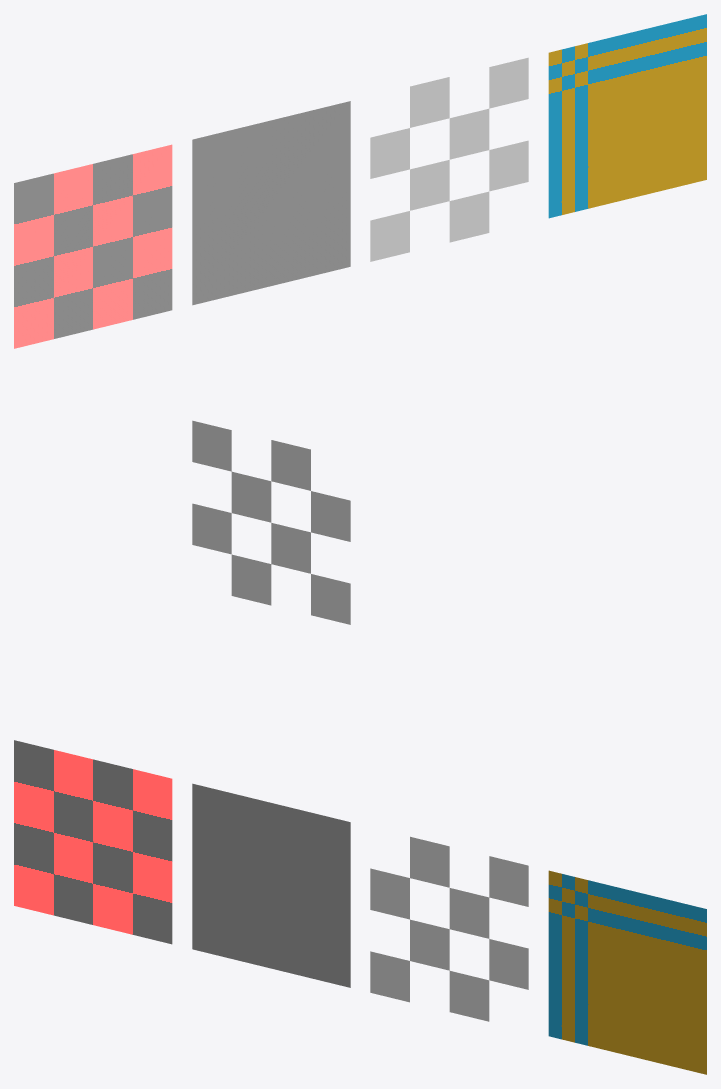
File: MaterialFeatures.gltf
3 renders of one model, top to bottom at view 1: azimuth 30°, elevation 25°; view 2: azimuth 150°, elevation 25°; view 3: azimuth 330°, elevation 25°, orthographic.
Visible parts, largest first — view 1: occlusion, emissive, sampler, mask; view 2: mask; view 3: occlusion, emissive, sampler, mask.
Part boxes in pixels (bbox=[...]): occlusion: bbox=[192, 101, 350, 305]; emissive: bbox=[14, 144, 172, 348]; sampler: bbox=[548, 14, 706, 218]; mask: bbox=[370, 57, 528, 261]; mask: bbox=[192, 420, 350, 624]; occlusion: bbox=[192, 783, 350, 987]; emissive: bbox=[14, 740, 172, 944]; sampler: bbox=[548, 870, 706, 1074]; mask: bbox=[370, 836, 528, 1021].
Bounding box in the file's own units: 7 × 1.6 × 0.
Materials: 4 (2 with a texture image).
